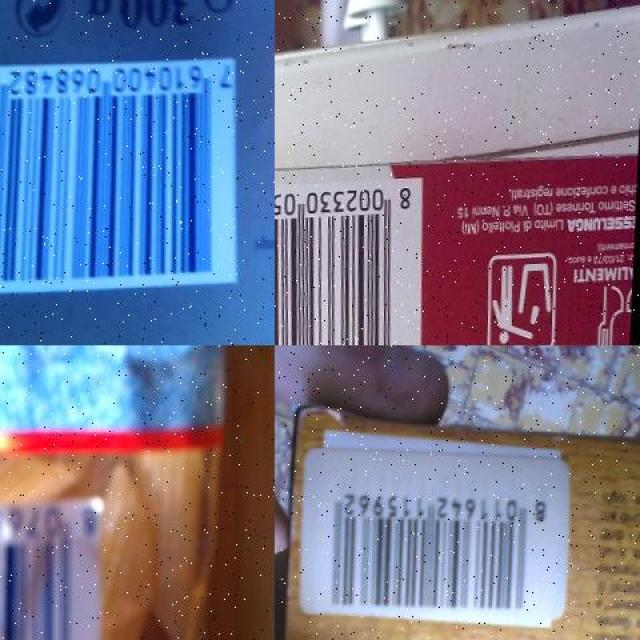Barcode: (0, 52, 251, 297), (309, 451, 562, 625), (275, 167, 429, 345), (0, 496, 115, 640)
